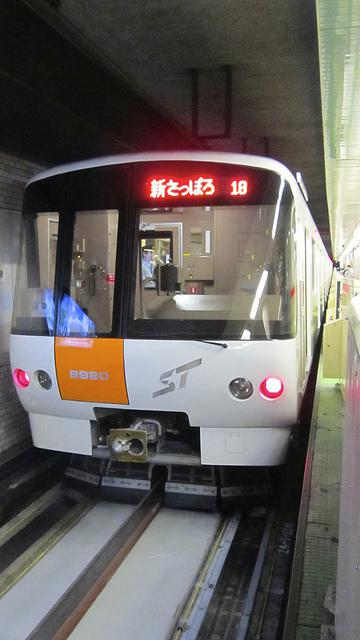Train: (13, 144, 340, 509)
